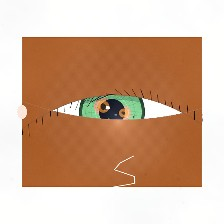foreign_body_visible: (32, 112, 80, 151)
